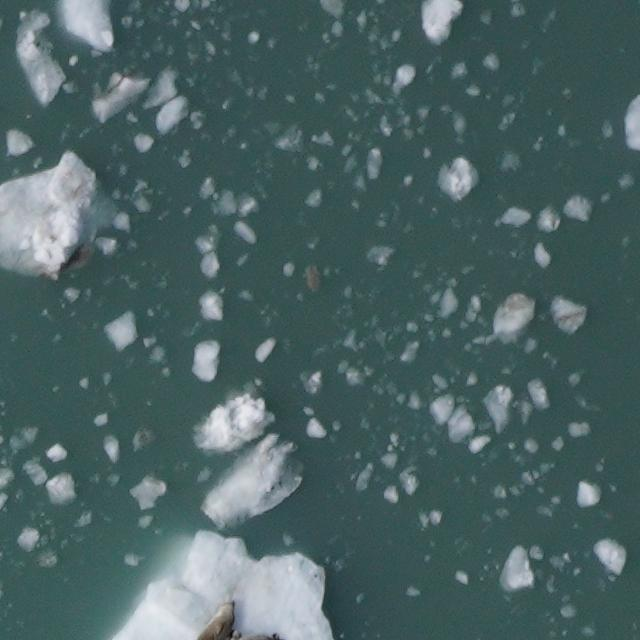seal: (189, 597, 242, 640)
